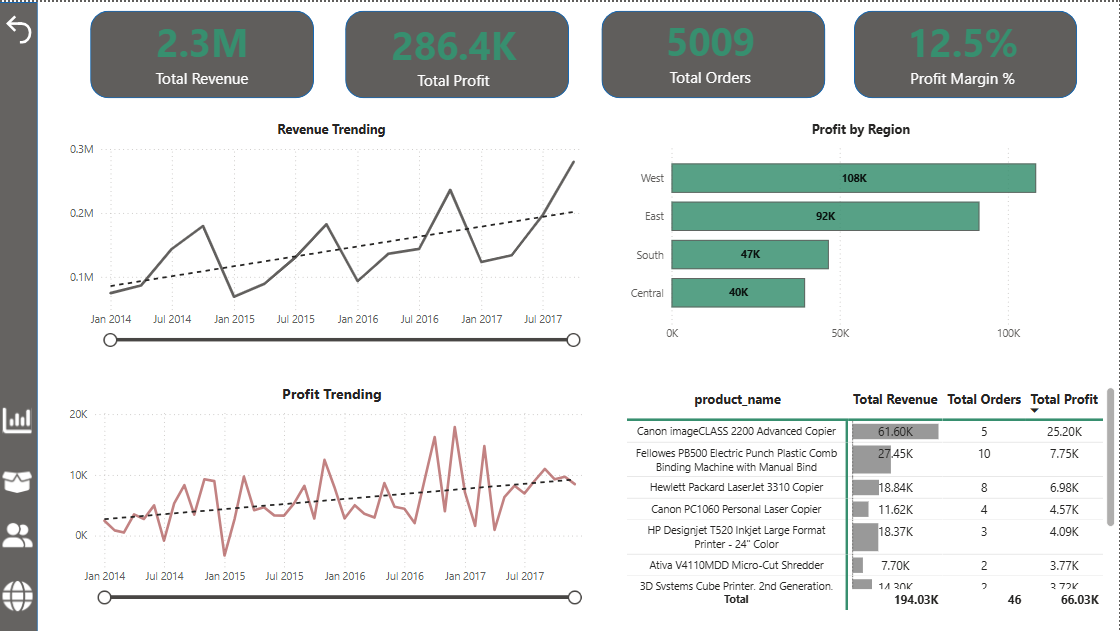

Layout of this report page (visuals, bound fields, positions):
{"tool":"powerbi","page":{"name":"Executive Dashboard","canvas":[1280,720],"ordinal":0},"visuals":[{"type":"card","title":"REVENUE","fields":{"Values":["Measure.Total Profit"]},"box":[391.7,8.7,256.7,101.7],"z":0,"group":"g2"},{"type":"group","id":"g1","title":"EX KPI SHAPE","box":[103.7,9.3,1126.7,100],"z":0},{"type":"group","id":"g2","title":"EX KPI","box":[101.7,2,1126.6,110.1],"z":1000},{"type":"card","title":"REVENUE","fields":{"Values":["Measure.Profit Margin %"]},"box":[974,2.1,254.3,110],"z":1000,"group":"g2"},{"type":"shape","box":[976.6,9.4,255,100],"z":1000,"group":"g1"},{"type":"shape","box":[103.7,9.3,255.7,100],"z":1500,"group":"g1"},{"type":"card","title":"REVENUE","fields":{"Values":["Measure.Total Orders"]},"box":[685.9,7.6,255,96.7],"z":2000,"group":"g2"},{"type":"shape","box":[395.1,9.3,255.7,100],"z":2000,"group":"g1"},{"type":"lineChart","title":"Revenue Trending ","fields":{"Category":["DateTable.Date.Variation.Date Hierarchy.Year","DateTable.Date.Variation.Date Hierarchy.Quarter","DateTable.Date.Variation.Date Hierarchy.Month"],"Y":["Measure.Total Revenue"]},"box":[75.9,134.3,608.3,262.5],"z":2000},{"type":"shape","box":[688,9.3,255.7,100],"z":2500,"group":"g1"},{"type":"card","title":"REVENUE","fields":{"Values":["Measure.Total Revenue"]},"box":[101.7,2,261.7,110],"z":3000,"group":"g2"},{"type":"lineChart","title":"Profit Trending","fields":{"Category":["DateTable.Date.Variation.Date Hierarchy.Year","DateTable.Date.Variation.Date Hierarchy.Quarter","DateTable.Date.Variation.Date Hierarchy.Month"],"Y":["Measure.Total Profit"]},"box":[75.9,435.4,609.5,255],"z":3000},{"type":"barChart","title":"Profit by Region","fields":{"Category":["public orders.ship_region"],"Y":["Measure.Total Profit"]},"box":[712.9,134.3,544.3,262.9],"z":4000},{"type":"pivotTable","fields":{"Rows":["public products_clean.product_name"],"Values":["Measure.Total Revenue","Measure.Total Orders","Measure.Total Profit"]},"box":[712.9,435.7,567.1,264.3],"z":8000},{"type":"shape","box":[0,0,44.3,720],"z":9000,"group":"g4"},{"type":"actionButton","box":[0,452.2,41.4,51.4],"z":11000,"group":"g3"},{"type":"actionButton","box":[0,517.9,41.4,60],"z":12000,"group":"g3"},{"type":"actionButton","box":[0,579.5,42.6,58.6],"z":13000,"group":"g3"},{"type":"actionButton","box":[0,652.8,42.6,52.9],"z":14000,"group":"g3"},{"type":"actionButton","box":[1.4,3.6,42.9,54.3],"z":15000,"group":"g3"},{"type":"group","id":"g3","title":"Bottoms","box":[0,3.6,44.3,702.1],"z":15001,"group":"g4"},{"type":"group","id":"g4","title":"Sidebar","box":[0,0,44.3,720],"z":15002}]}

Visuals, with their boxes on the page's 1280x720 design canvas (x1, y1, x2, y2). These are canvas units, not pixel positions in the 1120x631 screenshot, which may show the page scaled, cropped or inside an application window:
"REVENUE" card: (left=392, top=9, right=648, bottom=110)
"EX KPI SHAPE" group: (left=104, top=9, right=1230, bottom=109)
"EX KPI" group: (left=102, top=2, right=1228, bottom=112)
"REVENUE" card: (left=974, top=2, right=1228, bottom=112)
shape: (left=977, top=9, right=1232, bottom=109)
shape: (left=104, top=9, right=359, bottom=109)
"REVENUE" card: (left=686, top=8, right=941, bottom=104)
shape: (left=395, top=9, right=651, bottom=109)
"Revenue Trending " lineChart: (left=76, top=134, right=684, bottom=397)
shape: (left=688, top=9, right=944, bottom=109)
"REVENUE" card: (left=102, top=2, right=363, bottom=112)
"Profit Trending" lineChart: (left=76, top=435, right=685, bottom=690)
"Profit by Region" barChart: (left=713, top=134, right=1257, bottom=397)
pivotTable - public products_clean.product_name x Measure.Total Revenue: (left=713, top=436, right=1280, bottom=700)
shape: (left=0, top=0, right=44, bottom=720)
actionButton: (left=0, top=452, right=41, bottom=504)
actionButton: (left=0, top=518, right=41, bottom=578)
actionButton: (left=0, top=580, right=43, bottom=638)
actionButton: (left=0, top=653, right=43, bottom=706)
actionButton: (left=1, top=4, right=44, bottom=58)
"Bottoms" group: (left=0, top=4, right=44, bottom=706)
"Sidebar" group: (left=0, top=0, right=44, bottom=720)
